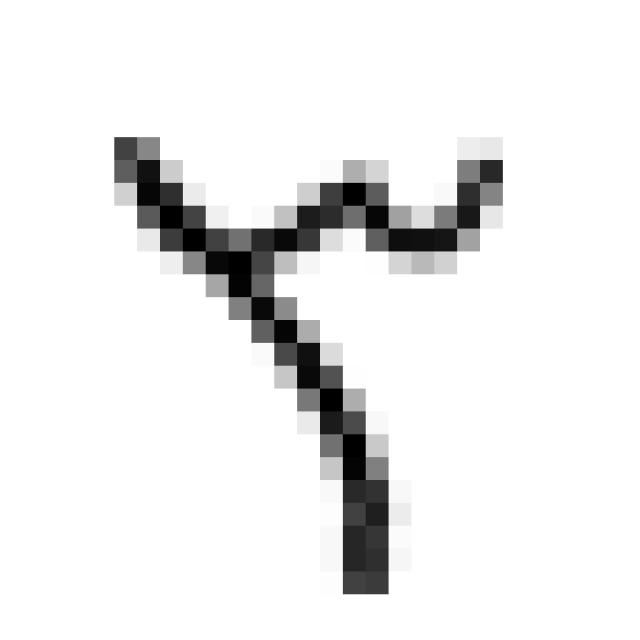3 -three-: (96, 103, 520, 606)
